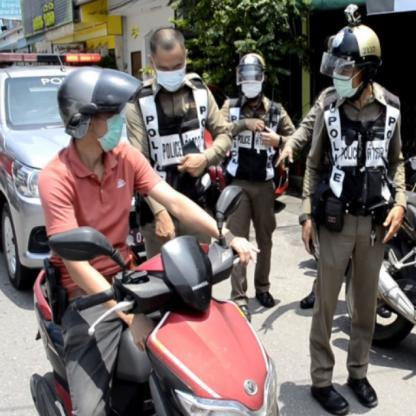helmet: (57, 67, 143, 150), (321, 24, 381, 99), (236, 52, 266, 99)
nohelmet: (148, 27, 187, 92)
